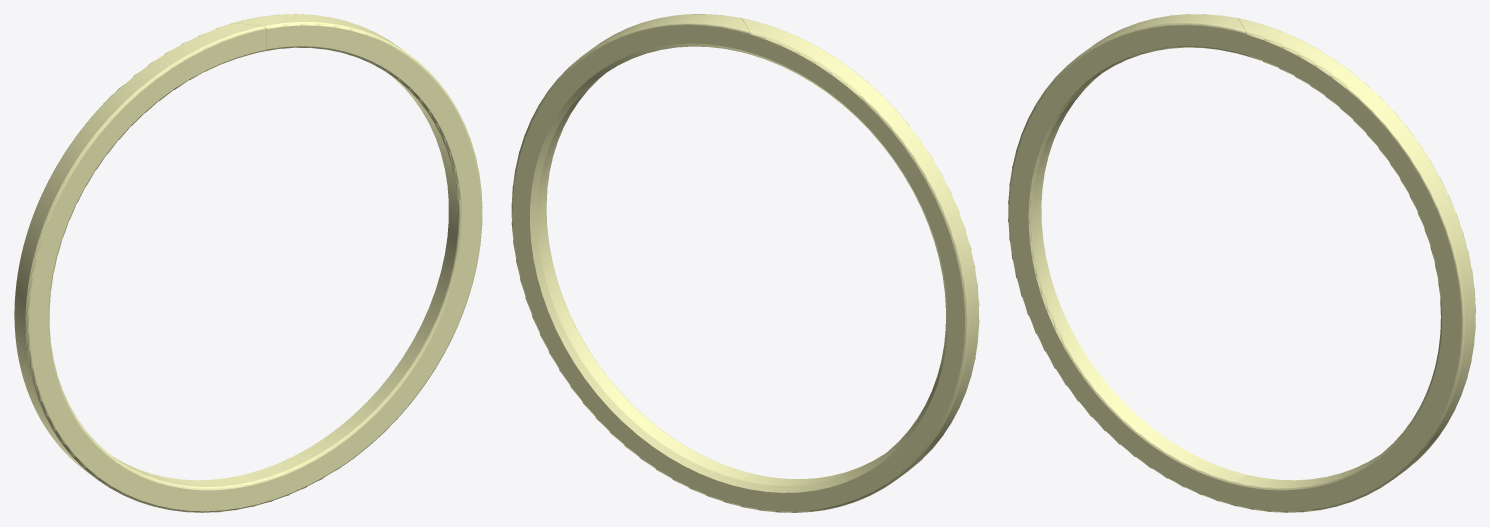
The model's file is 463126_BACKUP RING.fbx.
The picture shows the model from 3 angles, left to right: view 1: azimuth 30°, elevation 25°; view 2: azimuth 150°, elevation 25°; view 3: azimuth 330°, elevation 25°; orthographic projection.
Visible parts, largest first — view 1: meshes[0]; view 2: meshes[0]; view 3: meshes[0].
Part boxes in pixels (left/top/right/bottom): meshes[0]: left=14, top=14, right=482, bottom=512; meshes[0]: left=511, top=14, right=979, bottom=512; meshes[0]: left=1008, top=14, right=1475, bottom=512.
Size of the model in its own units: 20 by 20 by 1.
